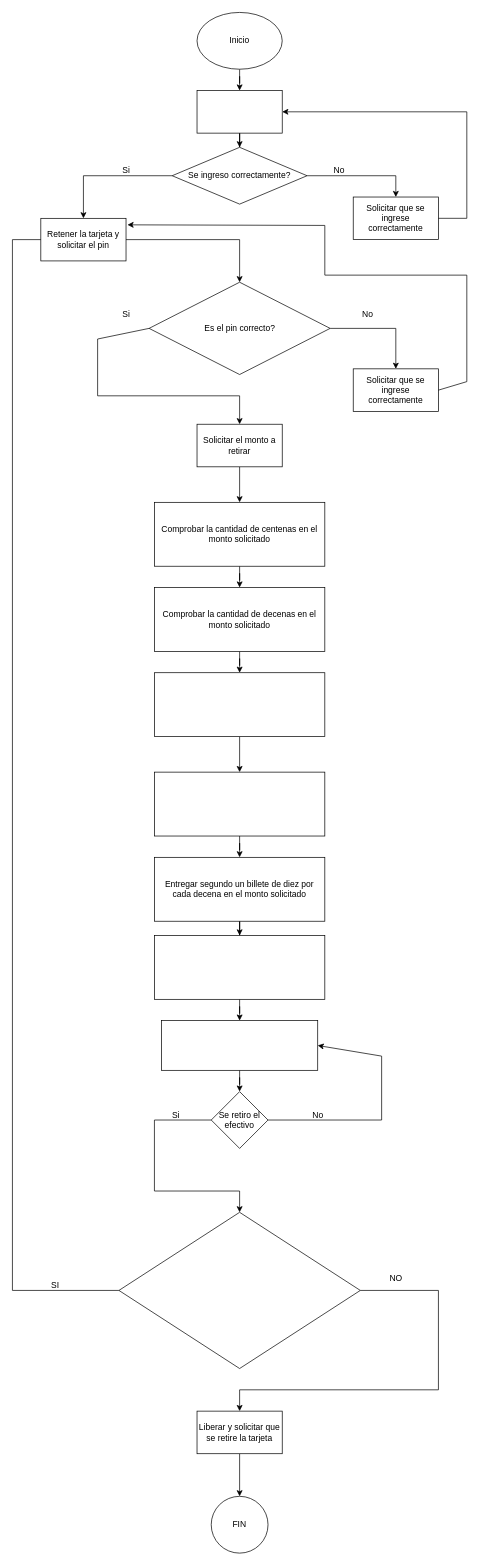
Image size: 485x1566. Some labels were removed from this diagram. The centre of each missing label's shape, as x and y in pixels:
"Comprobar la cantidad de unidades en el monto solicitado" belongs at pixel 239 704.
"Entregar primero un billete de cien por cada centena en el monto solicitado" belongs at pixel 239 803.
"Entregar segundo un billete de uno por cada unidad en el monto solicitado" belongs at pixel 239 967.
"Preguntar si desea realizar otro retiro" belongs at pixel 239 1290.
"Solicitar el ingresar la tarjeta correctamente" belongs at pixel 239 111.
"Solicitar que se retire el efectivo" belongs at pixel 239 1045.
